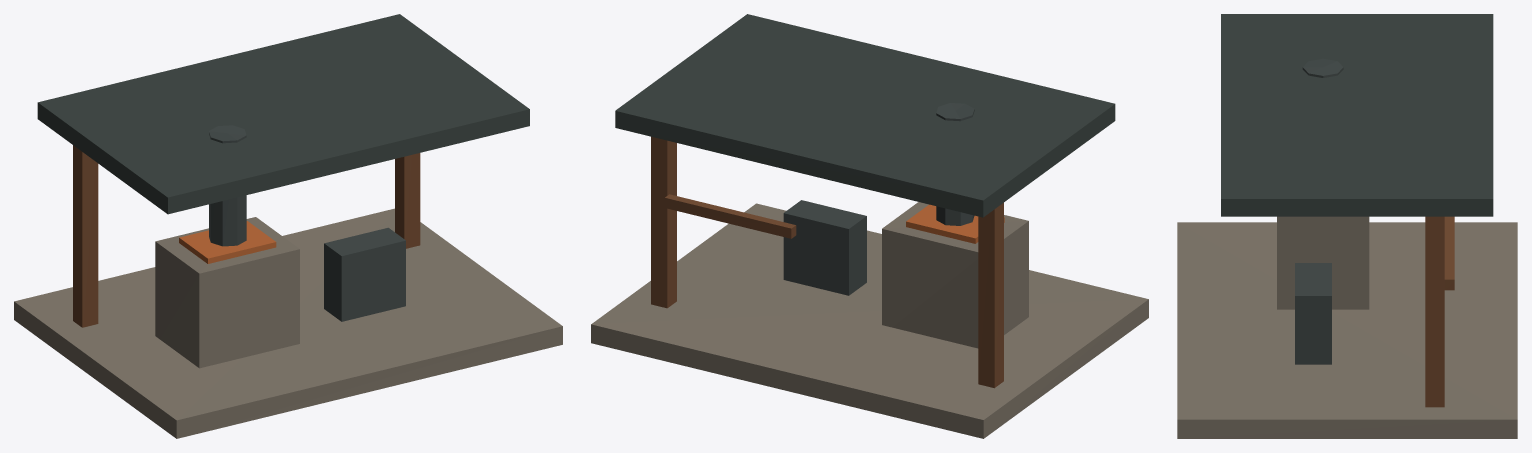
File: Blacksmith.glb
3 renders of one model, left to right at view 1: azimuth 30°, elevation 25°; view 2: azimuth 150°, elevation 25°; view 3: azimuth 270°, elevation 25°, orthographic. The views are drawn at different scales.
Visible parts, largest first — view 1: blacksmith-static-smith-stone, blacksmith-static-smith-roof, blacksmith-static-smith-iron, blacksmith-static-smith-timber, blacksmith-static-smith-coal-ember; view 2: blacksmith-static-smith-stone, blacksmith-static-smith-roof, blacksmith-static-smith-timber, blacksmith-static-smith-iron, blacksmith-static-smith-coal-ember; view 3: blacksmith-static-smith-stone, blacksmith-static-smith-roof, blacksmith-static-smith-timber, blacksmith-static-smith-iron.
Boxes of the visible parts, x1=… form: blacksmith-static-smith-stone: x1=14, y1=208, x2=562, y2=438; blacksmith-static-smith-roof: x1=37, y1=14, x2=529, y2=214; blacksmith-static-smith-iron: x1=209, y1=125, x2=405, y2=321; blacksmith-static-smith-timber: x1=73, y1=145, x2=420, y2=327; blacksmith-static-smith-coal-ember: x1=179, y1=221, x2=276, y2=263; blacksmith-static-smith-stone: x1=591, y1=202, x2=1148, y2=438; blacksmith-static-smith-roof: x1=615, y1=14, x2=1115, y2=217; blacksmith-static-smith-timber: x1=651, y1=136, x2=1003, y2=388; blacksmith-static-smith-iron: x1=783, y1=103, x2=974, y2=295; blacksmith-static-smith-coal-ember: x1=906, y1=204, x2=1004, y2=243; blacksmith-static-smith-stone: x1=1177, y1=216, x2=1517, y2=438; blacksmith-static-smith-roof: x1=1221, y1=14, x2=1493, y2=216; blacksmith-static-smith-timber: x1=1425, y1=216, x2=1454, y2=407; blacksmith-static-smith-iron: x1=1295, y1=58, x2=1343, y2=364.
Bounding box in the file's own units: 4.8 × 2.67 × 3.5.
